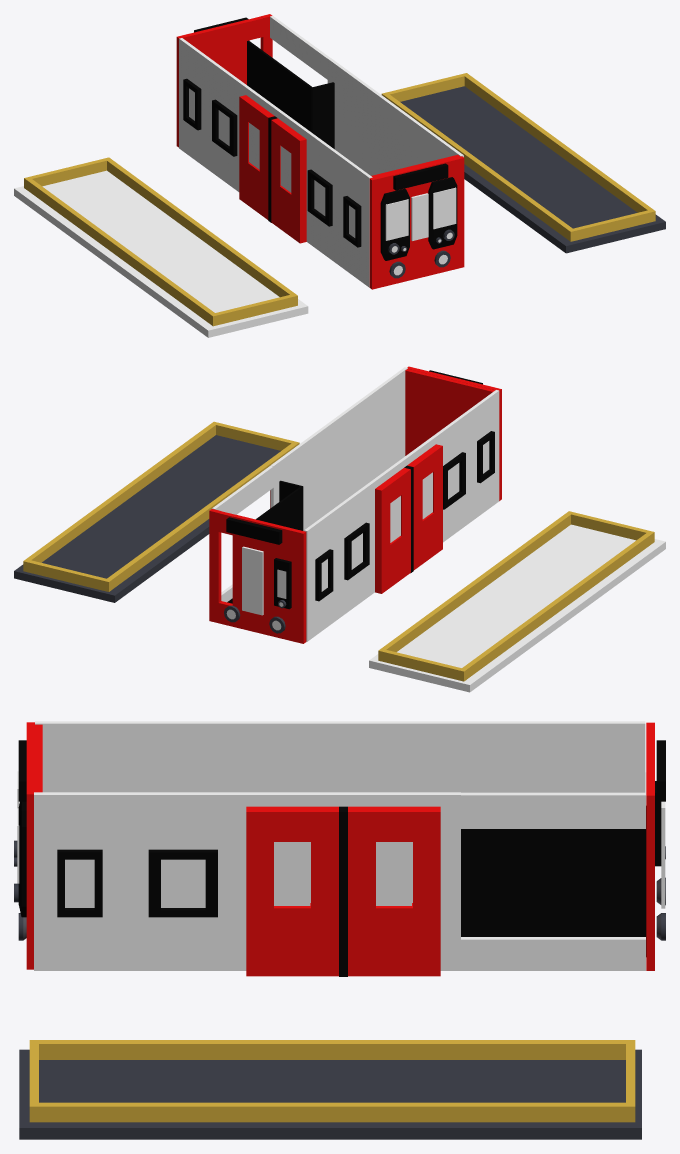
Rendered from tubetrain-cyd-v2.glb.
3 renders of one model, top to bottom at view 1: azimuth 30°, elevation 25°; view 2: azimuth 150°, elevation 25°; view 3: azimuth 270°, elevation 25°, orthographic. The views are drawn at different scales.
Visible parts, largest first — view 1: mergedBlocks(Clone); view 2: mergedBlocks(Clone); view 3: mergedBlocks(Clone).
Boxes of the visible parts, x1,y1,x2,y2 form: mergedBlocks(Clone): [14, 14, 665, 337]; mergedBlocks(Clone): [14, 366, 665, 692]; mergedBlocks(Clone): [14, 721, 665, 1139].
Bounding box in the file's own units: 9.1 × 2.27 × 7.05.
